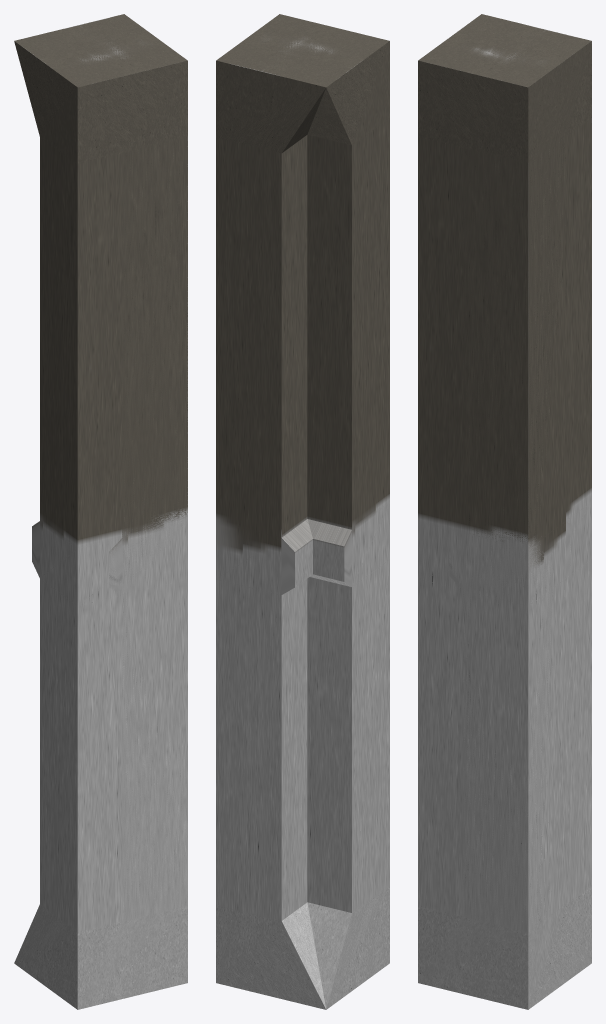
File: Lab_Corner.fbx
3 views of the same model, side by side, from view 1: azimuth 30°, elevation 25°; view 2: azimuth 150°, elevation 25°; view 3: azimuth 330°, elevation 25° (orthographic).
Visible parts, largest first — view 1: LabWall85; view 2: LabWall85; view 3: LabWall85.
Part boxes in pixels (x1,y1,x2,y2): LabWall85: (14, 14, 187, 1009); LabWall85: (216, 14, 389, 1009); LabWall85: (418, 14, 591, 1009).
Bounding box in the file's own units: 0.5 × 4 × 0.5.
